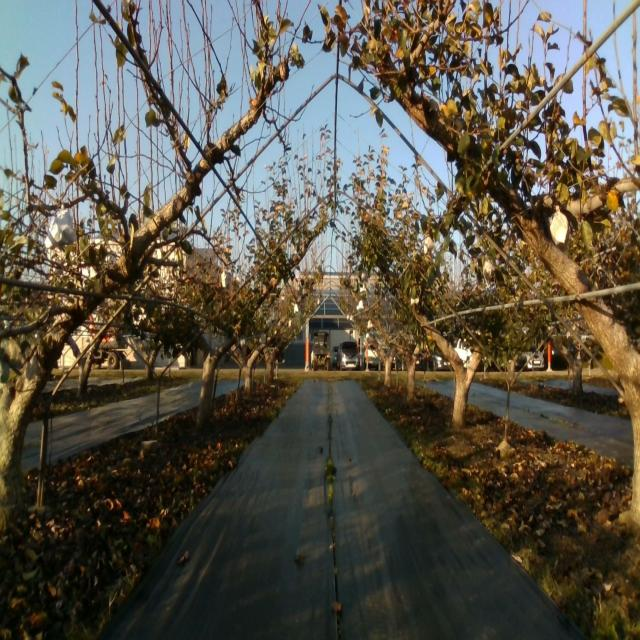pearbags: (41, 202, 78, 251), (549, 204, 569, 248), (482, 260, 494, 288), (423, 237, 437, 257), (221, 269, 232, 291)
